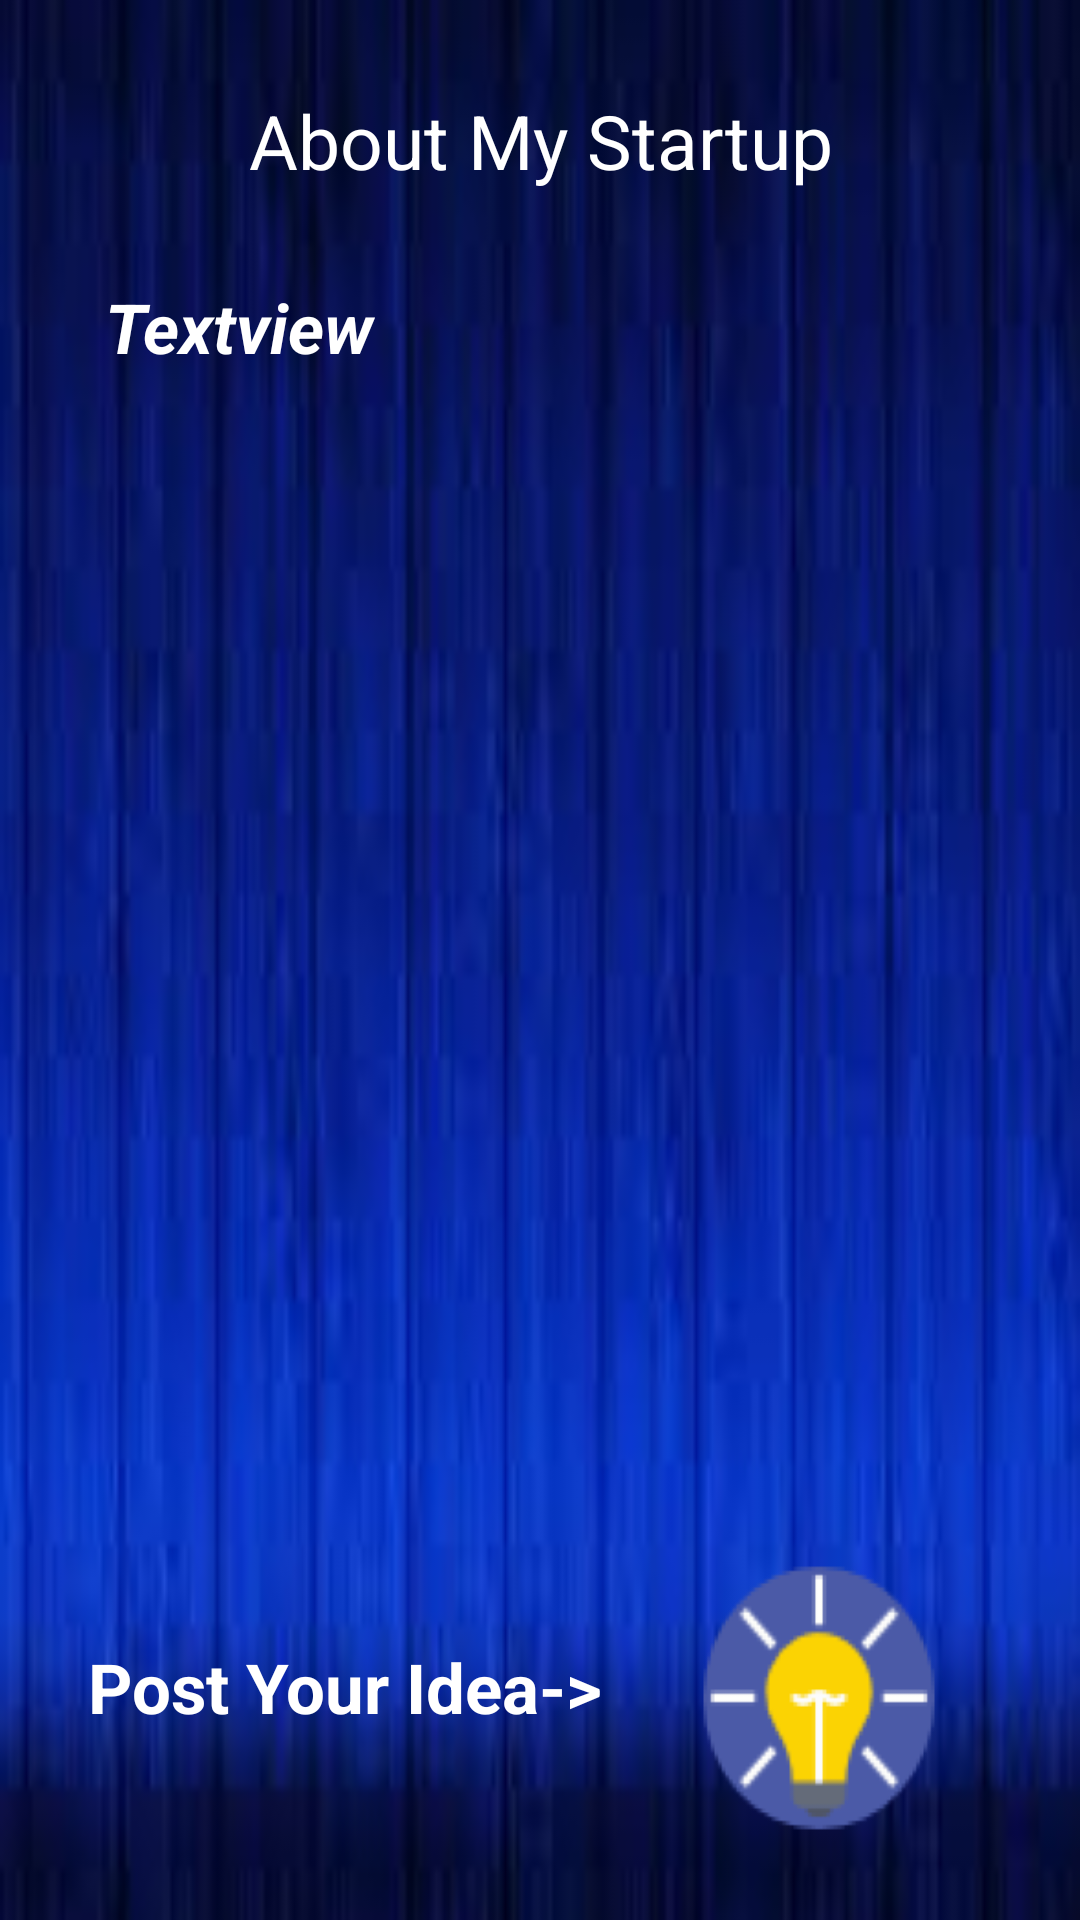

Icons on this 1080px x 1920px Android screen, each with the point to tap as (x=x, y=y):
bulb: (x=819, y=1698)
